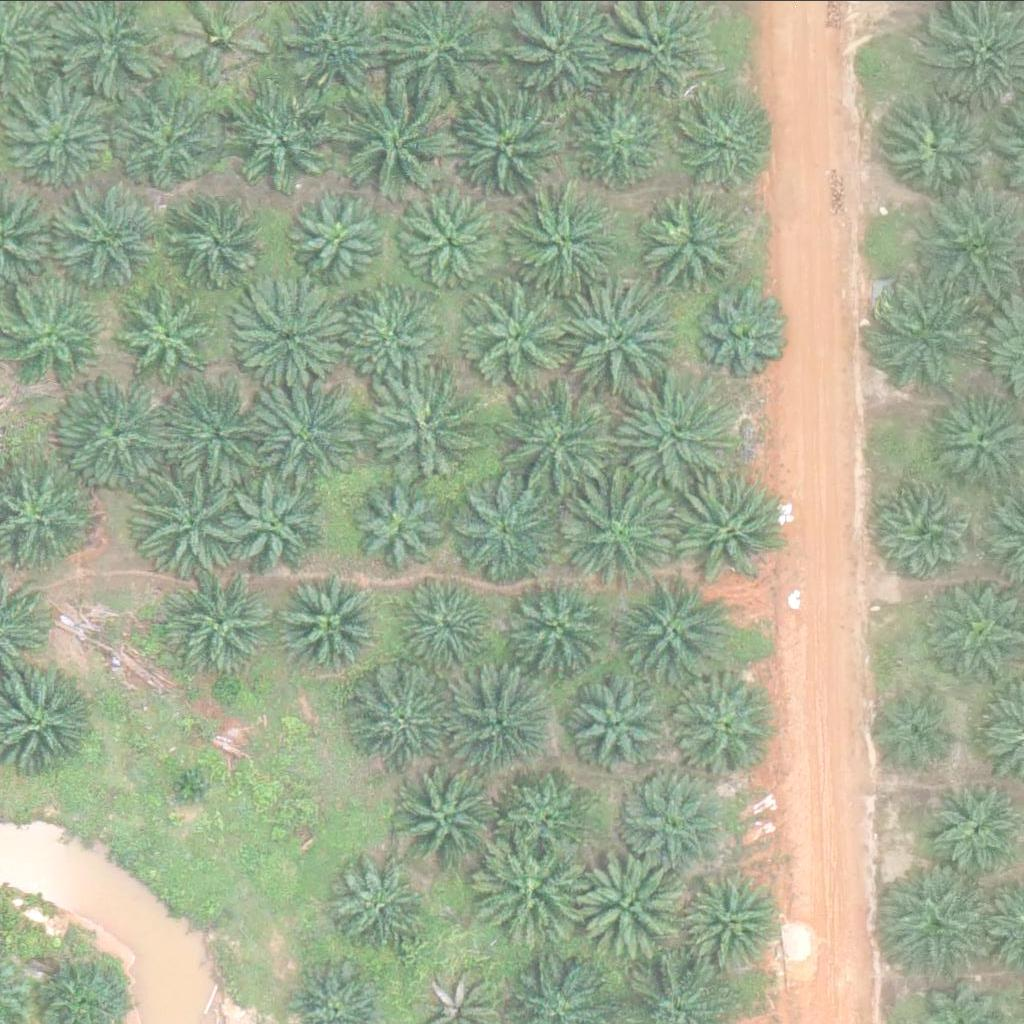Kelapa_Sawit: (448, 87, 562, 200), (232, 280, 346, 393), (248, 371, 362, 484), (625, 377, 739, 490), (565, 480, 679, 593), (666, 664, 780, 777), (618, 577, 732, 690), (875, 283, 988, 396), (342, 88, 455, 201), (506, 185, 619, 298), (467, 275, 580, 388), (366, 366, 479, 479), (445, 665, 558, 778), (880, 93, 994, 205), (873, 866, 987, 978), (449, 474, 563, 586), (221, 83, 334, 195), (643, 184, 756, 296), (564, 274, 677, 386), (70, 374, 183, 486), (499, 385, 612, 497), (676, 469, 789, 581), (126, 463, 239, 575), (389, 761, 502, 873), (472, 838, 585, 950), (570, 851, 683, 963), (7, 94, 108, 194), (119, 92, 220, 192), (572, 88, 673, 188), (681, 91, 782, 191), (64, 186, 165, 286), (404, 191, 505, 291), (119, 285, 220, 385), (354, 474, 455, 574), (224, 473, 325, 573), (575, 672, 676, 772), (619, 771, 720, 871), (330, 857, 431, 957), (874, 482, 974, 582), (920, 777, 1020, 877), (178, 194, 278, 294), (351, 283, 451, 383), (167, 383, 267, 483), (175, 572, 275, 672), (284, 571, 384, 671), (400, 571, 500, 671), (516, 575, 616, 675), (360, 669, 460, 769), (682, 872, 782, 972), (298, 193, 387, 281), (870, 685, 958, 773), (503, 773, 591, 861), (705, 291, 793, 378), (162, 764, 213, 814)
